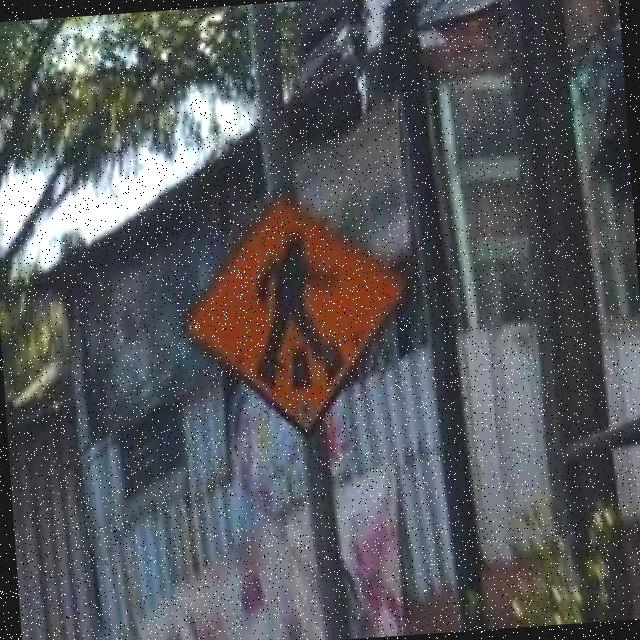Przejscie dla pieszych: (185, 196, 414, 430)
